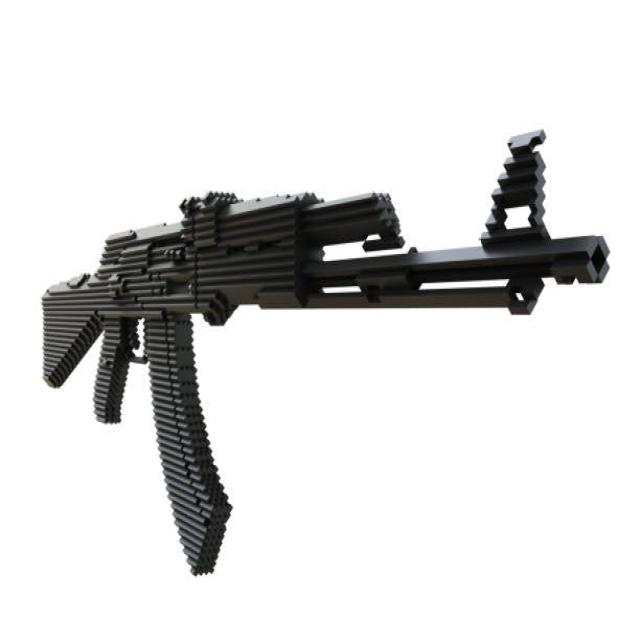rifle: (35, 125, 613, 588)
